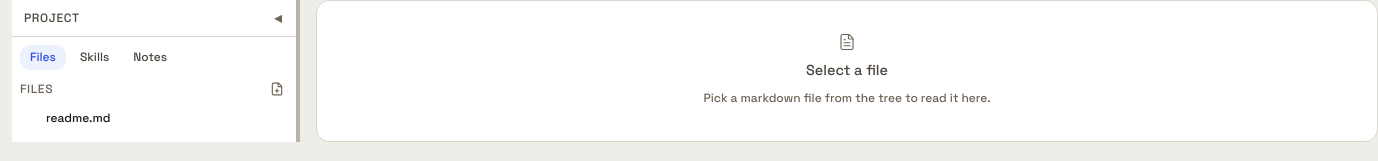
Scenario: <Station /> › notes › selecting text shows the Add note affordance, not the composer, at the selection's end
Click the button "readme.md" at x=152, y=118, box 46,111 -> 259,126
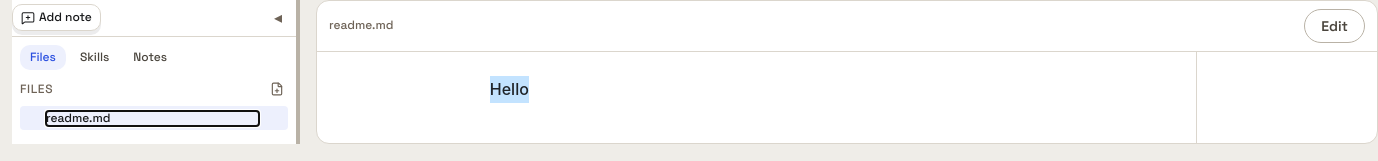
Expected: the button "Add note" is shown, 12,4 -> 101,31
